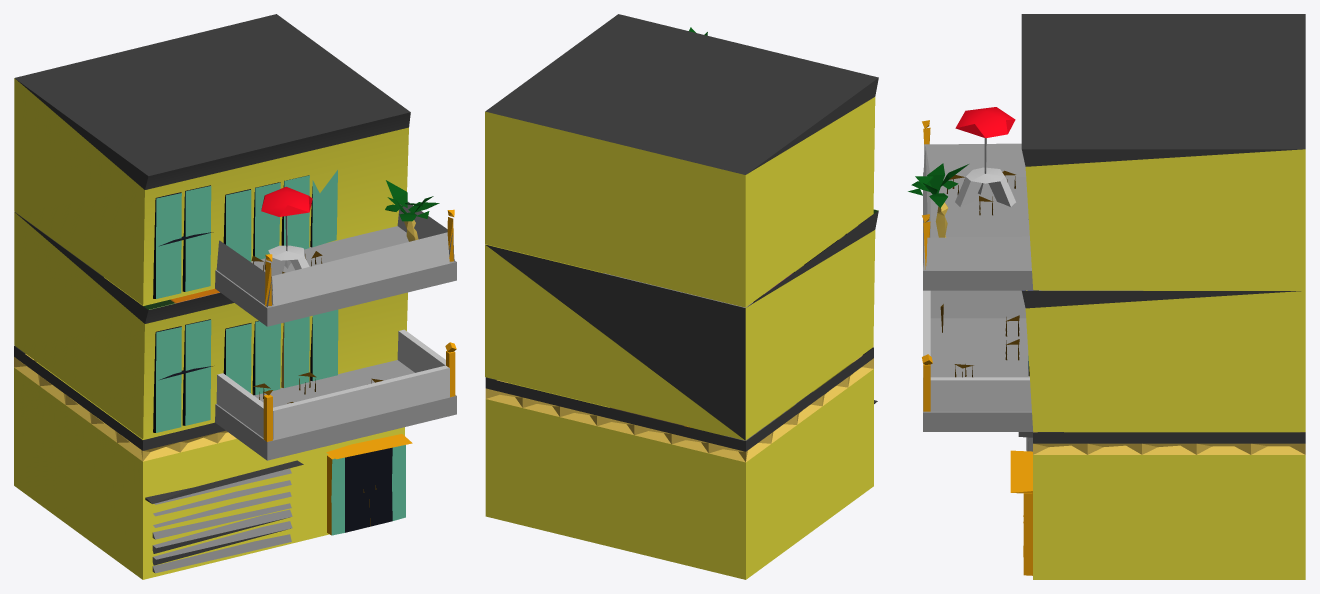
Rendered from PredioCentroAmareloLOD2.fbx.
3 renders of one model, left to right at view 1: azimuth 30°, elevation 25°; view 2: azimuth 150°, elevation 25°; view 3: azimuth 270°, elevation 25°, orthographic. The views are drawn at different scales.
Visible parts, largest first — view 1: PredioFundacaoLOD2.004, Andar2LOD2.004, Andar1LOD2.004, GaragemLOD2.004; view 2: PredioFundacaoLOD2.004; view 3: PredioFundacaoLOD2.004, Andar2LOD2.004, Andar1LOD2.004.
Part boxes in pixels (x1=…): PredioFundacaoLOD2.004: x1=14, y1=14, x2=412, y2=579; Andar2LOD2.004: x1=215, y1=180, x2=456, y2=326; Andar1LOD2.004: x1=215, y1=329, x2=456, y2=460; GaragemLOD2.004: x1=145, y1=460, x2=303, y2=573; PredioFundacaoLOD2.004: x1=485, y1=14, x2=878, y2=579; PredioFundacaoLOD2.004: x1=940, y1=14, x2=1305, y2=579; Andar2LOD2.004: x1=908, y1=107, x2=1142, y2=290; Andar1LOD2.004: x1=922, y1=290, x2=1040, y2=431.
Bounding box in the file's own units: 782 × 1161 × 970.
1 material, 1 textured.
